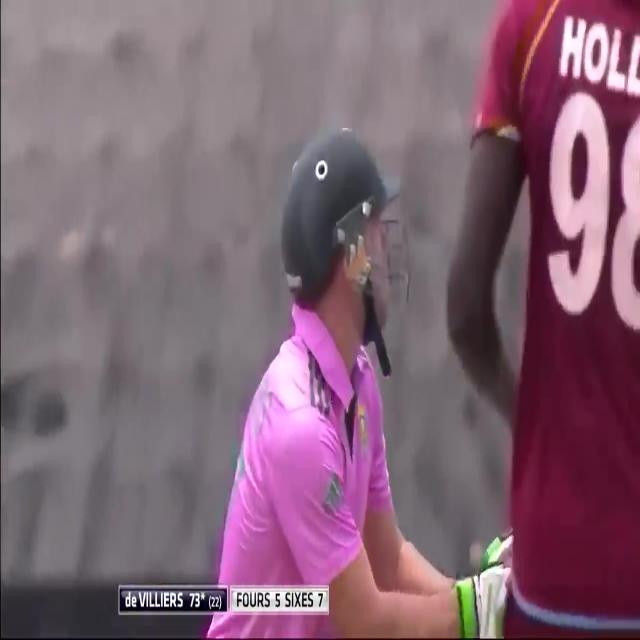Ball: (211, 123, 453, 590)
Fielder: (441, 0, 640, 640)
